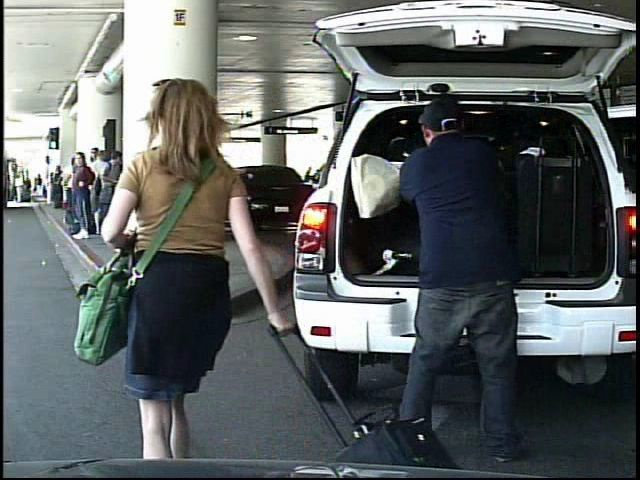person: (103, 76, 270, 459), (383, 93, 534, 459), (301, 166, 314, 197), (14, 174, 25, 204), (35, 173, 45, 200)
